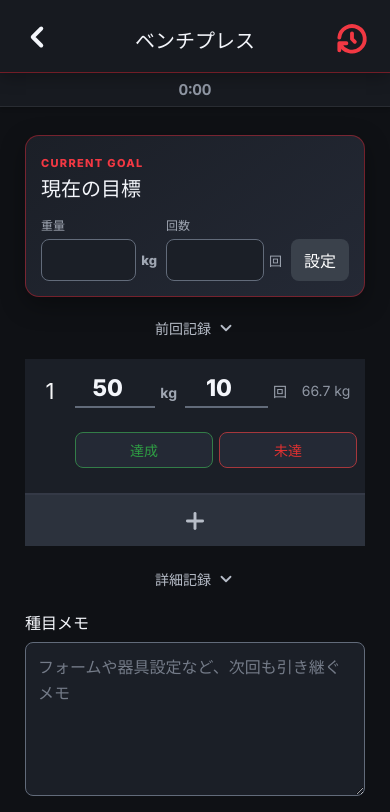
Test case: DetailScreen set inputs › コピーボタンで前回記録の重量と回数を今回セットに挿入する
Step 1. Click the button "前回記録" → (195, 328), box [25, 313, 365, 343]
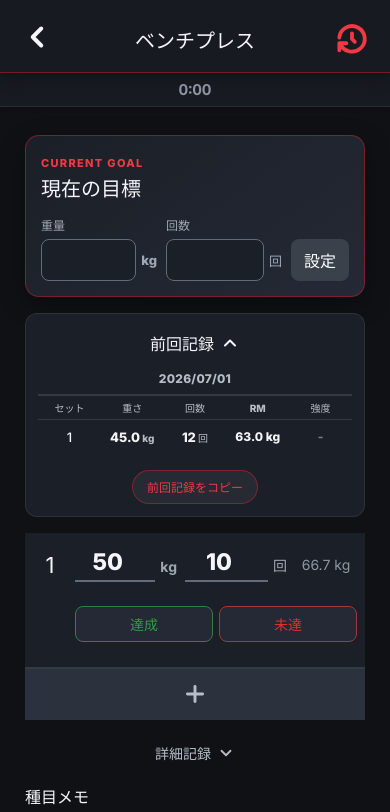
Step 2. Click the button "前回記録をコピー" → (195, 486), box [132, 470, 258, 504]
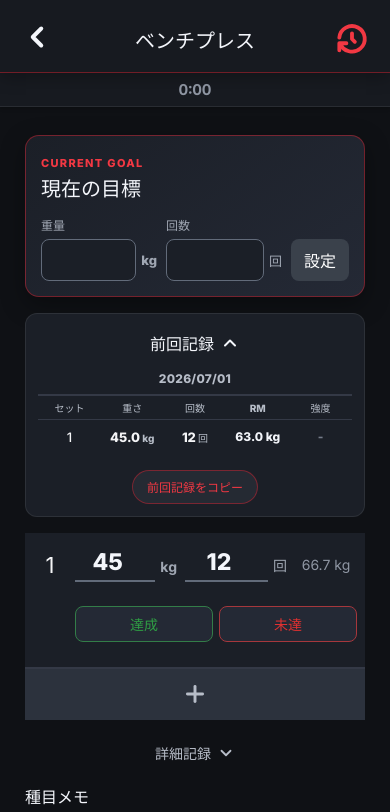
Expected: the number field labelled "kg" holds "45", [75, 544, 155, 582]
Expected: the number field labelled "回" holds "12", [185, 544, 268, 582]
